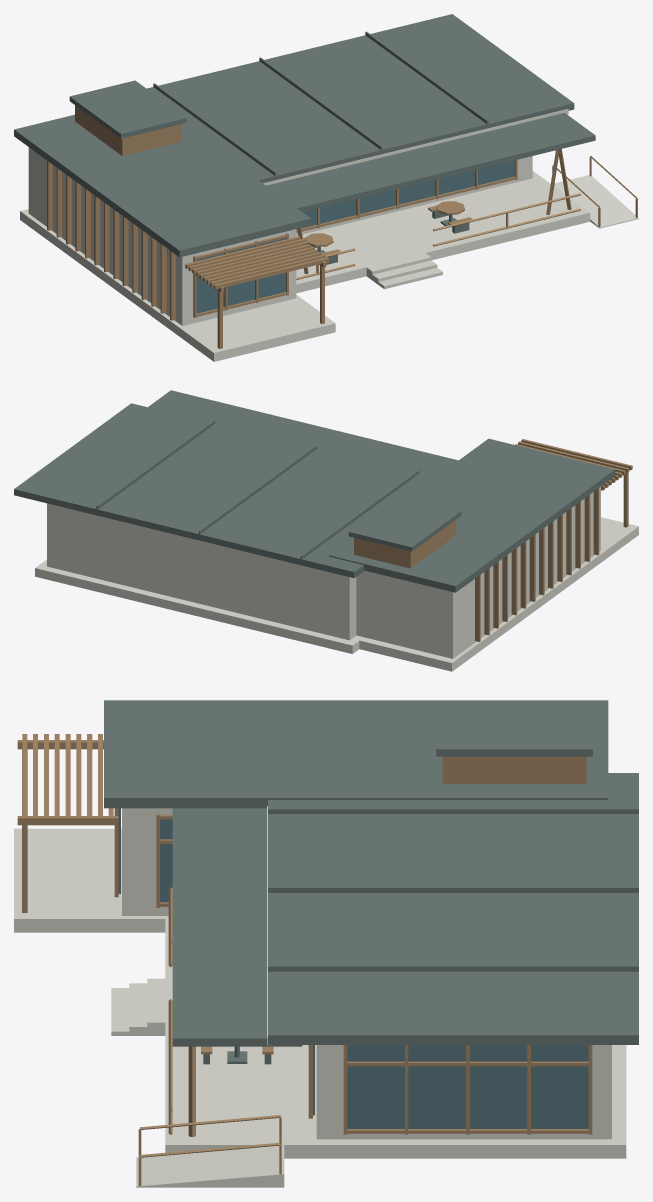
File: clubhouse_modern_v2.glb
The picture shows the model from 3 angles, top to bottom: view 1: azimuth 30°, elevation 25°; view 2: azimuth 150°, elevation 25°; view 3: azimuth 270°, elevation 25°; orthographic projection. The views are drawn at different scales.
Parts seen in each view (by area): view 1: Clubhouse_modern_v2; view 2: Clubhouse_modern_v2; view 3: Clubhouse_modern_v2.
Part boxes in pixels (x1,y1,x2,y2): Clubhouse_modern_v2: [14, 14, 638, 361]; Clubhouse_modern_v2: [14, 390, 638, 671]; Clubhouse_modern_v2: [14, 700, 638, 1187].
Bounding box in the file's own units: 23.42 × 5.49 × 17.71.
